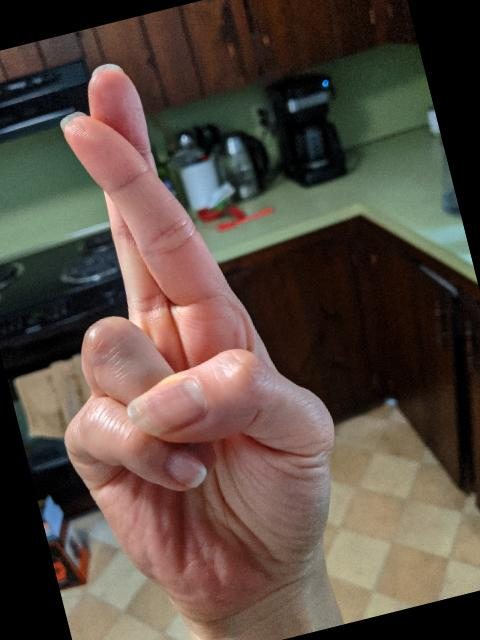R: (0, 25, 380, 640)
